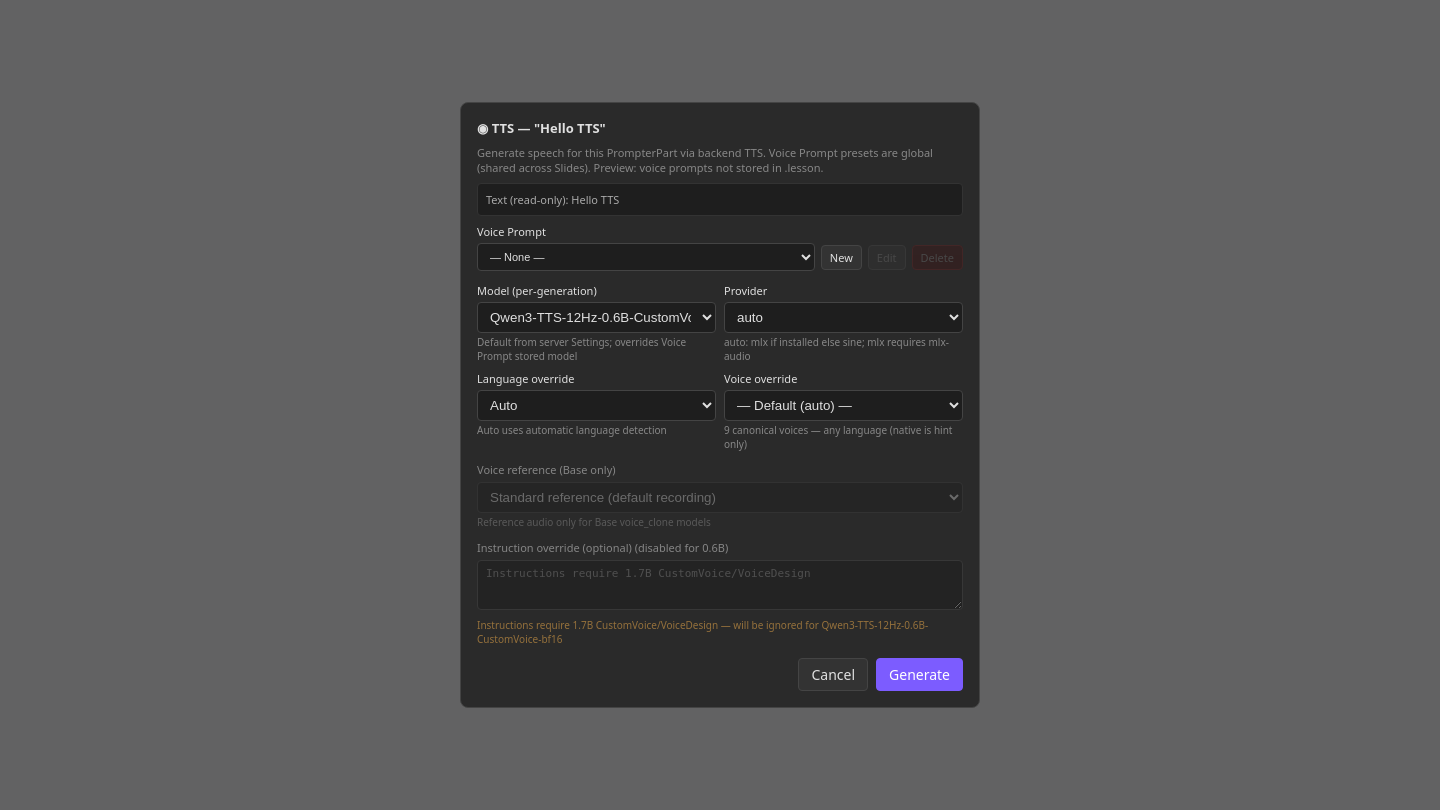
Test: TtsModal seam + mocked voice prompts & TTS › per-part TTS dialog reusing Record modal shell with prompt picker, language/voice overrides, progress, retry, error surfacing
Expected: the dropdown with test id "tts-language" is shown, [477,390,716,421]
Expected: the dropdown with test id "tts-voice" is shown, [724,390,963,421]
# Select prompt
Select "Warm — speak warmly" in the dropdown with test id "tts-prompt-picker" at (646, 257), box [477,243,815,271]
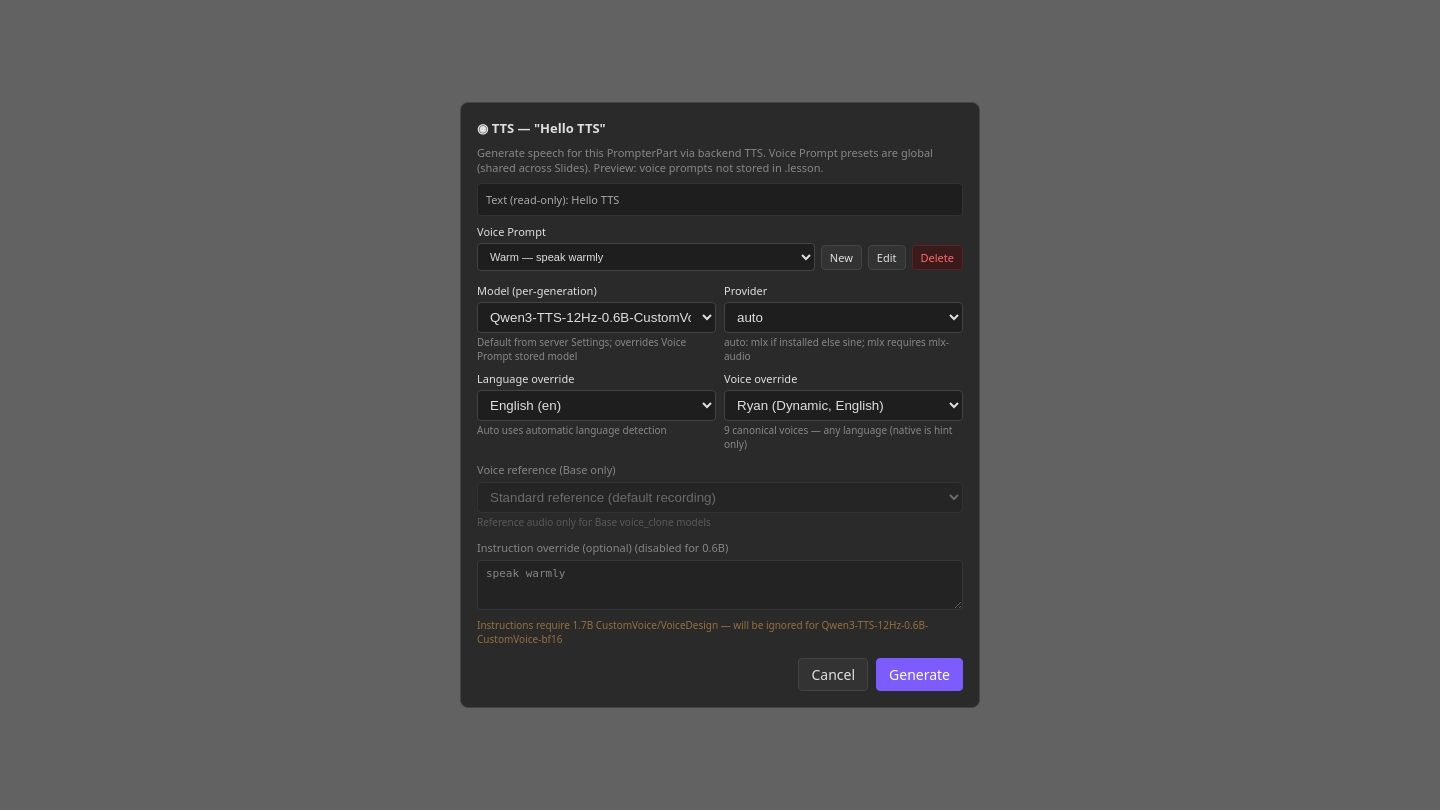
# Override language
Select "Spanish (es)" in the dropdown with test id "tts-language" at (596, 406), box [477,390,716,421]
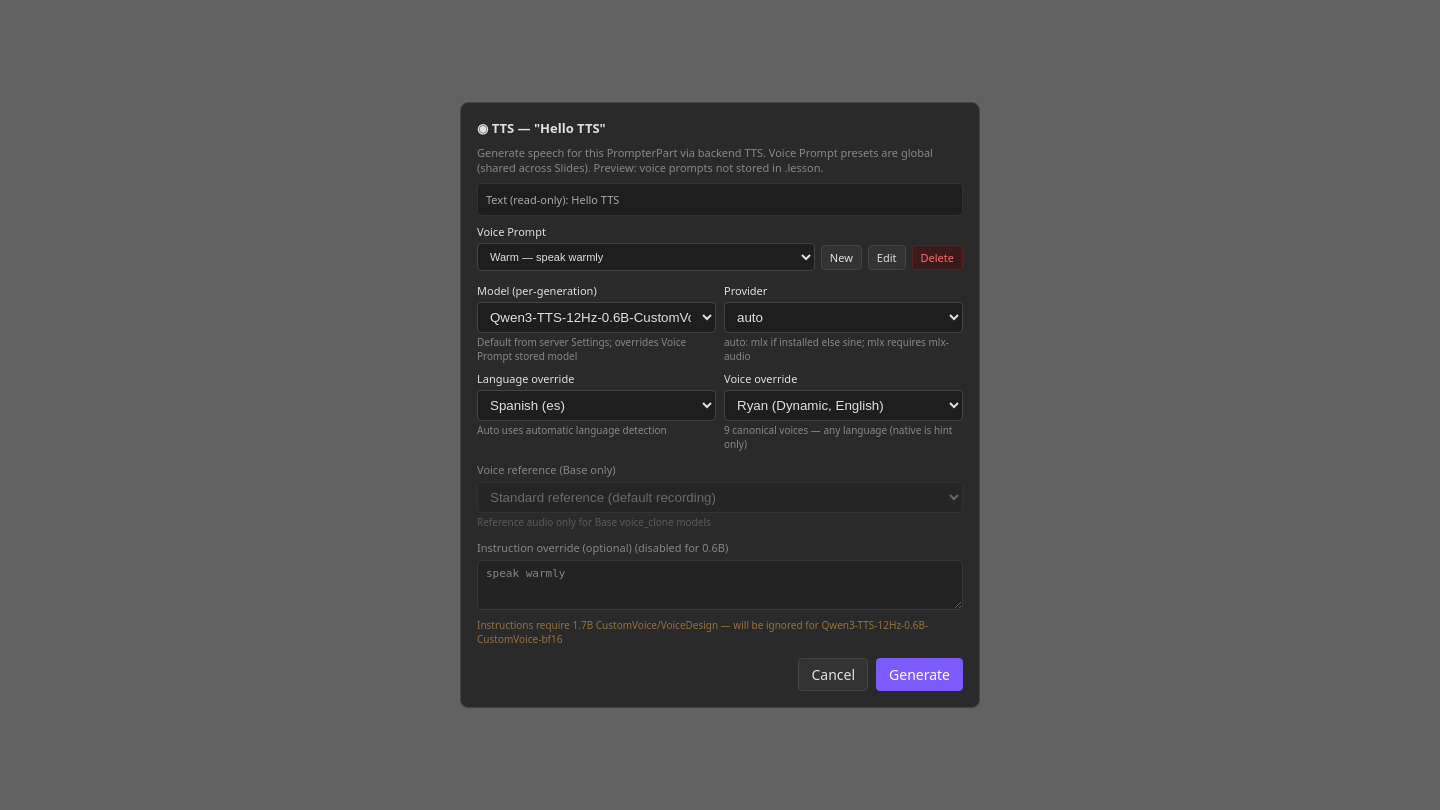
Select "nova" in the dropdown with test id "tts-voice" at (844, 406), box [724,390,963,421]
Click the button with test id "tts-generate" at (920, 674), box [876,658,963,691]
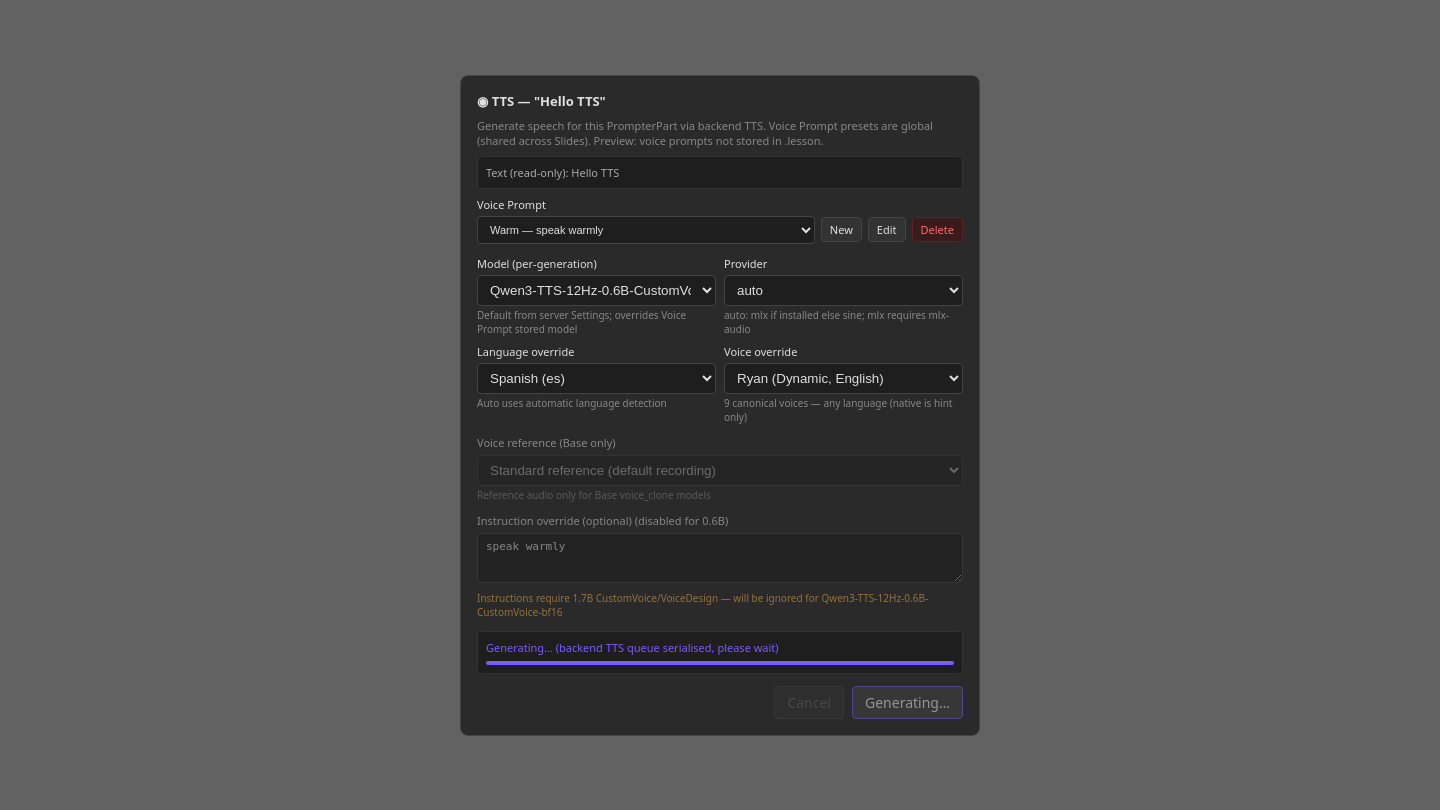
Expected: the element with test id "tts-progress" is shown, [477,630,963,674]
